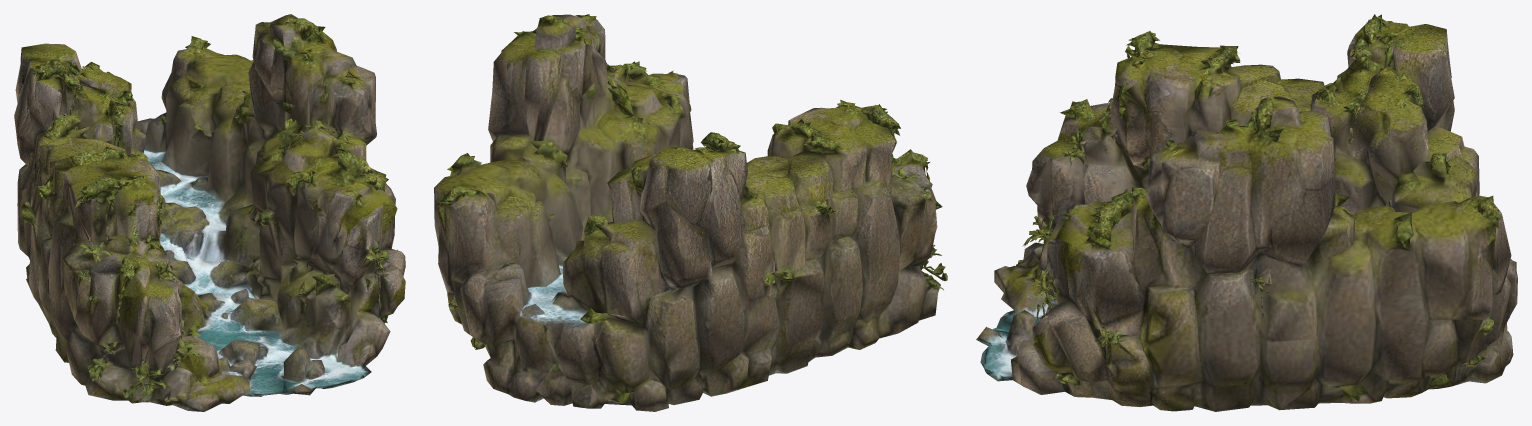
The model's file is canyon-one.glb.
3 renders of one model, left to right at view 1: azimuth 30°, elevation 25°; view 2: azimuth 150°, elevation 25°; view 3: azimuth 270°, elevation 25°, orthographic. The views are drawn at different scales.
Visible parts, largest first — view 1: tripo_node_486b43bf-b9f4-4a41-9c20-f91cce5cfd4a; view 2: tripo_node_486b43bf-b9f4-4a41-9c20-f91cce5cfd4a; view 3: tripo_node_486b43bf-b9f4-4a41-9c20-f91cce5cfd4a.
Part boxes in pixels (box(x1,y1,x2,y2)): tripo_node_486b43bf-b9f4-4a41-9c20-f91cce5cfd4a: box(14, 14, 405, 411); tripo_node_486b43bf-b9f4-4a41-9c20-f91cce5cfd4a: box(434, 14, 947, 411); tripo_node_486b43bf-b9f4-4a41-9c20-f91cce5cfd4a: box(976, 14, 1517, 411).
Bounding box in the file's own units: 0.8036 × 0.6068 × 0.9773.
Materials: 1 (1 with a texture image).
